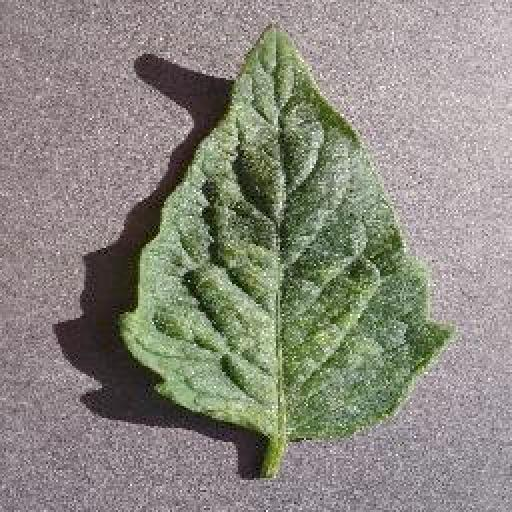disease_tomato: (116, 24, 454, 438)
